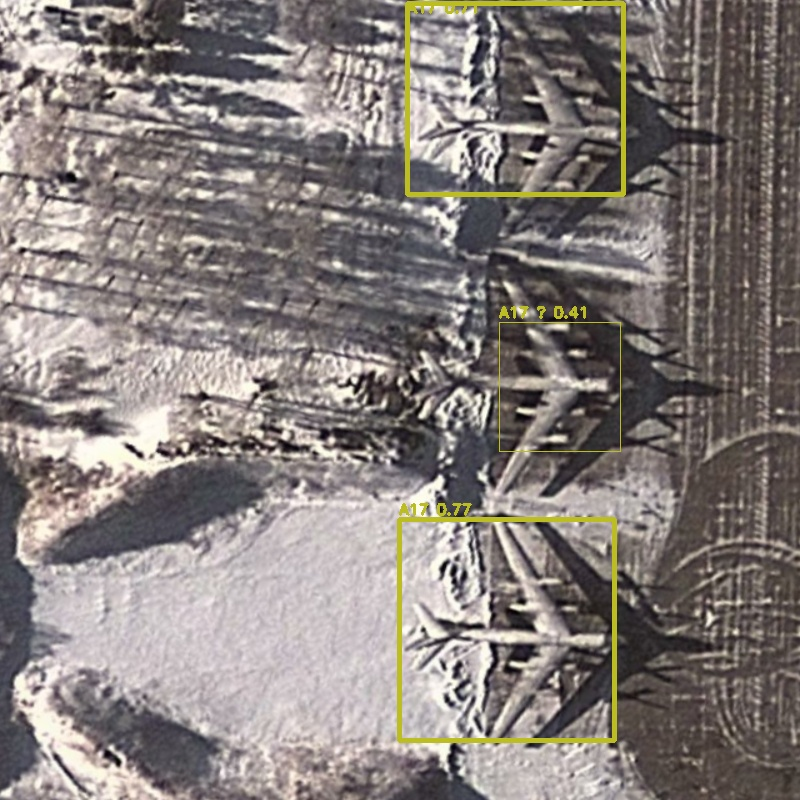A17: (399, 519, 614, 740), (407, 3, 623, 194), (499, 322, 620, 451)
